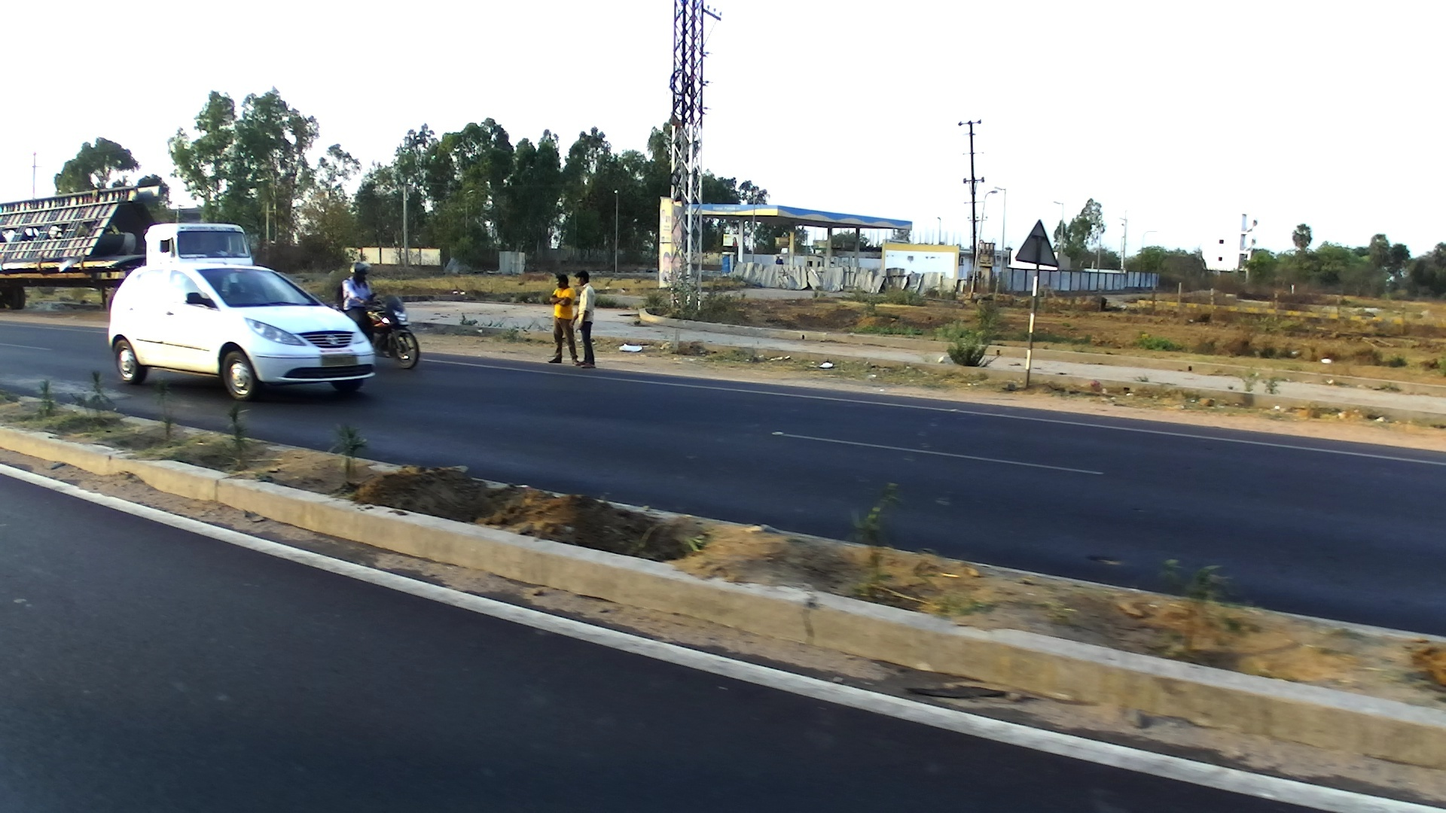car: (107, 262, 377, 404)
motorcycle: (344, 294, 420, 372)
person: (544, 272, 584, 367), (569, 271, 596, 367)
rider: (338, 263, 375, 348)
truck: (1, 180, 255, 313)
